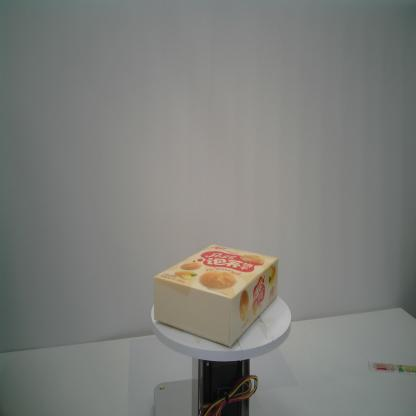Dessert: (153, 242, 278, 348)
